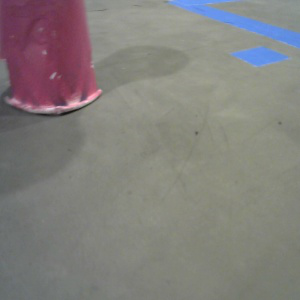middle: (1, 1, 102, 113)
